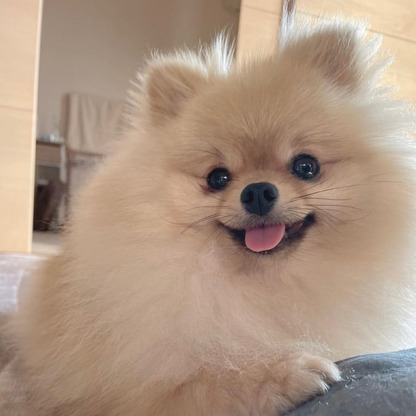Pomeranian: (54, 43, 410, 396)
